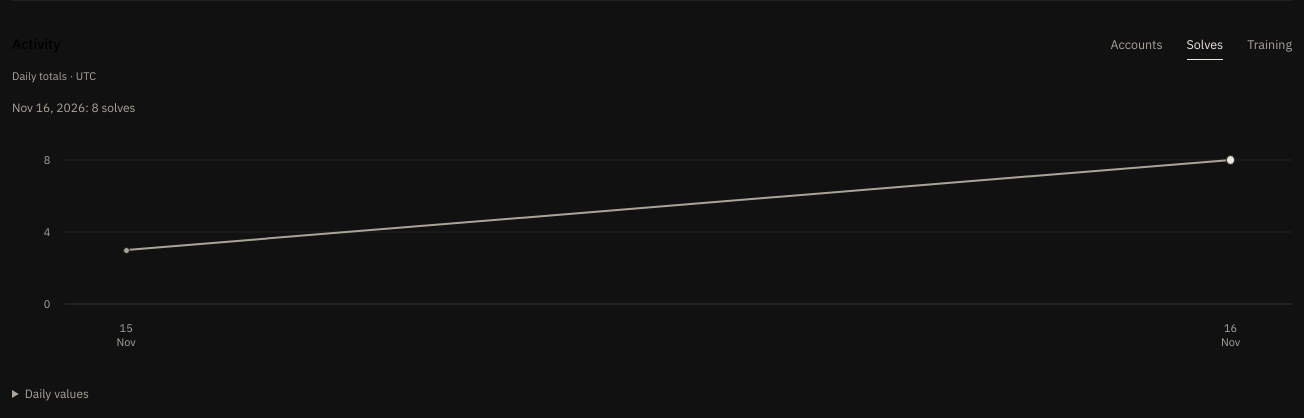
exposes exact values through pointer and arrow-key exploration
Hover over the button named "Nov 15, 2026: 3 solves": {"x": 126, "y": 250} [114,238,138,262]
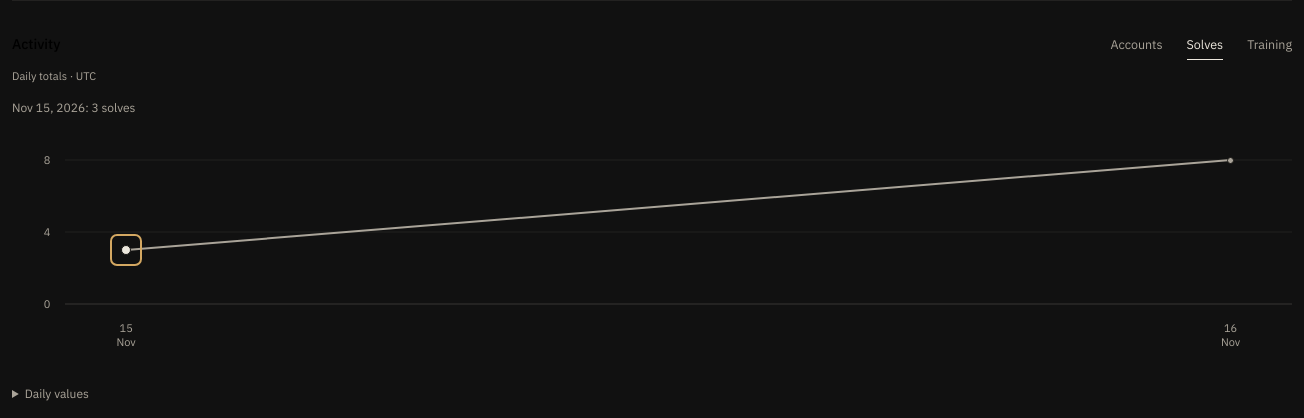
Check: the text "Nov 15, 2026: 3 solves" is shown, box [12,100,136,115]
Press ArrowRight in the button named "Nov 15, 2026: 3 solves", box [114,238,138,262]
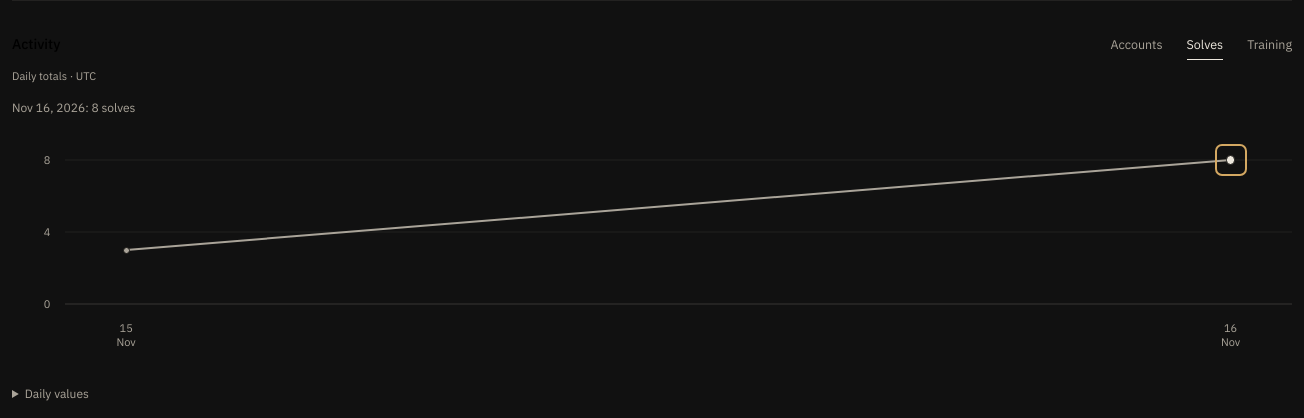
Check: the text "Nov 16, 2026: 8 solves" is shown, box [12,100,136,115]
